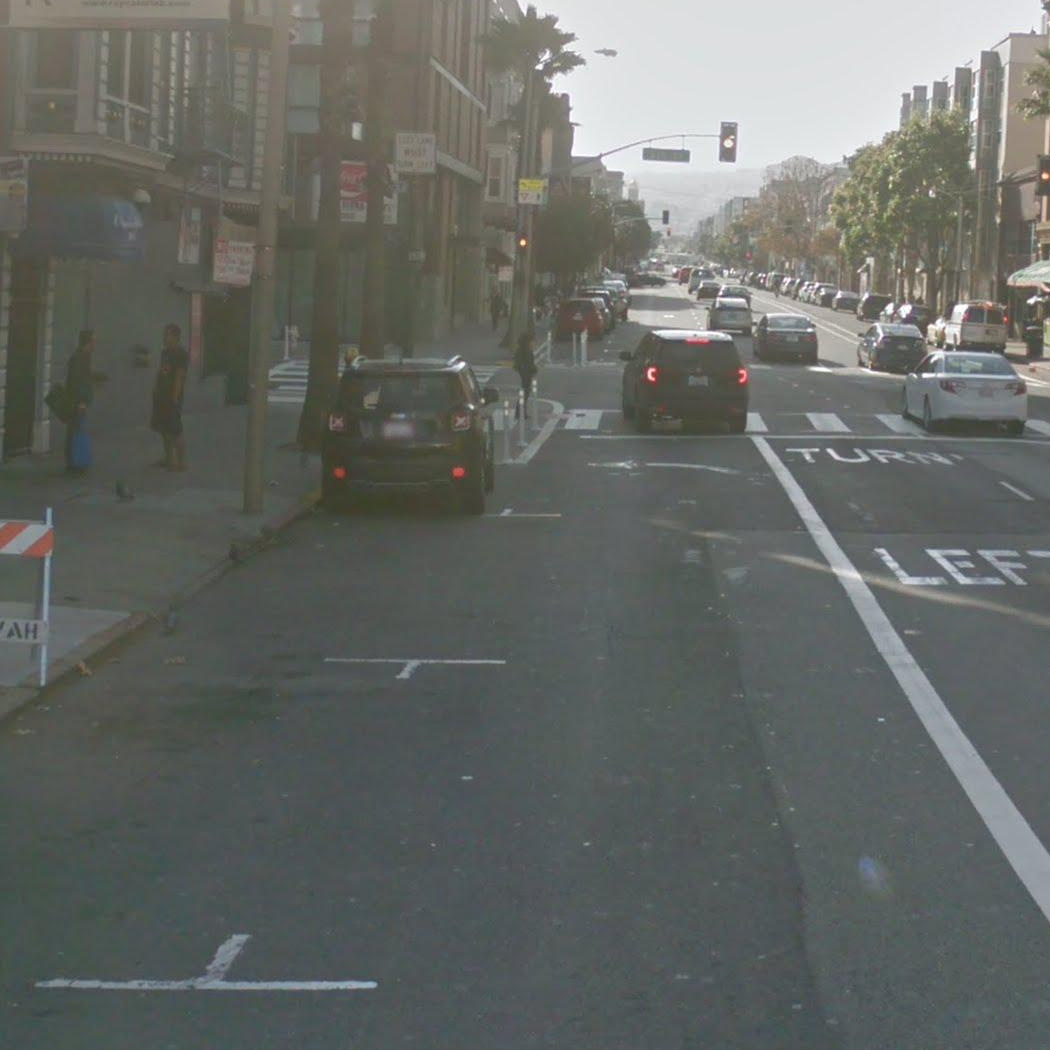No Parking: (211, 238, 257, 287)
